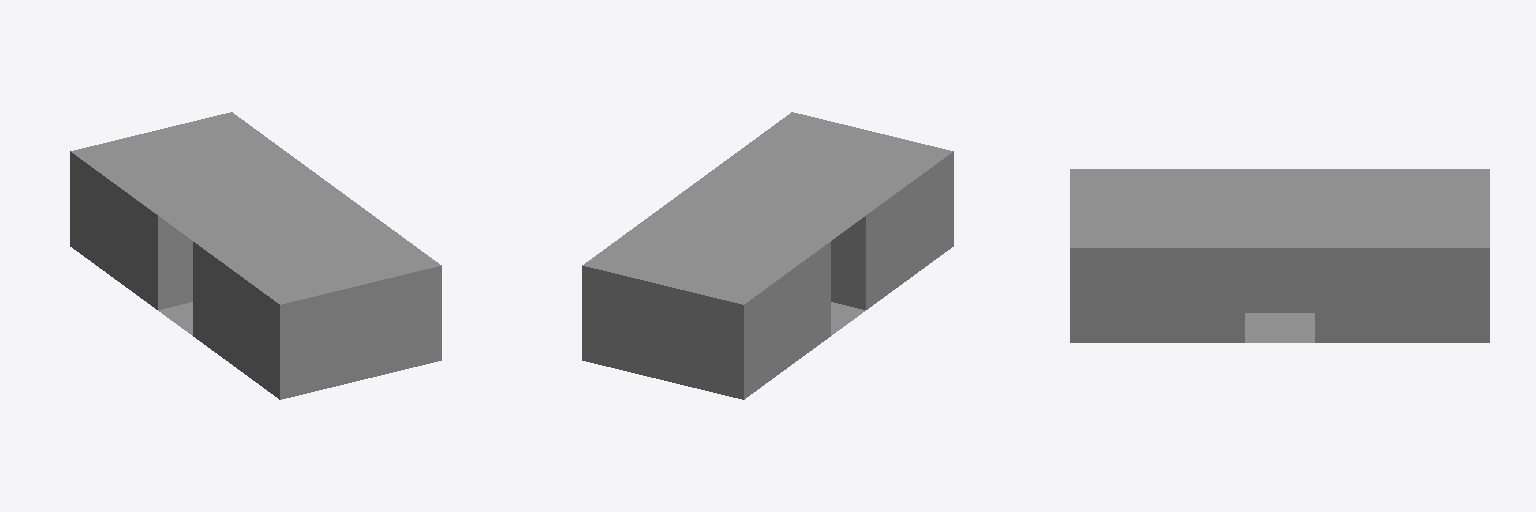
The model's file is RoomTop1.obj.
The picture shows the model from 3 angles: view 1: azimuth 30°, elevation 25°; view 2: azimuth 150°, elevation 25°; view 3: azimuth 270°, elevation 25°; orthographic projection.
Visible parts, largest first — view 1: Cube.004; view 2: Cube.004; view 3: Cube.004.
Part boxes in pixels (bbox=[...]): Cube.004: bbox=[70, 112, 441, 399]; Cube.004: bbox=[582, 112, 953, 399]; Cube.004: bbox=[1070, 169, 1489, 342].
Size of the model in its own units: 16 by 9 by 36.